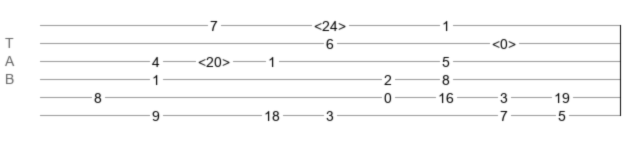0: (384, 90, 392, 100)
1: (152, 72, 160, 82), (268, 54, 276, 64), (442, 18, 450, 28)
16: (438, 90, 454, 100)
18: (264, 108, 280, 118)
19: (554, 90, 570, 100)
2: (384, 72, 392, 82)
3: (326, 108, 334, 118), (500, 90, 508, 100)
4: (152, 54, 160, 64)
5: (442, 54, 450, 64), (558, 108, 566, 118)
6: (326, 36, 334, 46)
7: (210, 18, 218, 28), (500, 108, 508, 118)
8: (94, 90, 102, 100), (442, 72, 450, 82)
9: (152, 108, 160, 118)
harmonic: (198, 54, 230, 64), (314, 18, 346, 28), (492, 36, 516, 46)
